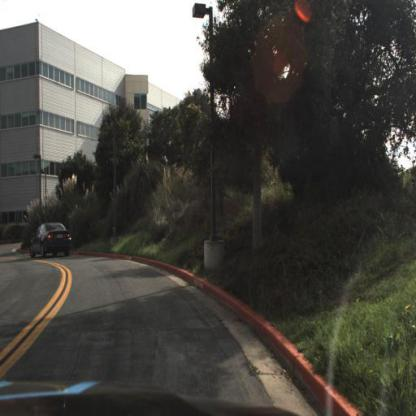car: (29, 221, 71, 261)
